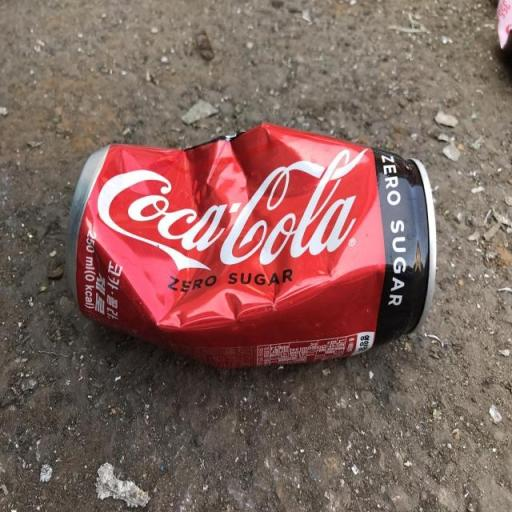metal: (51, 111, 461, 393)
